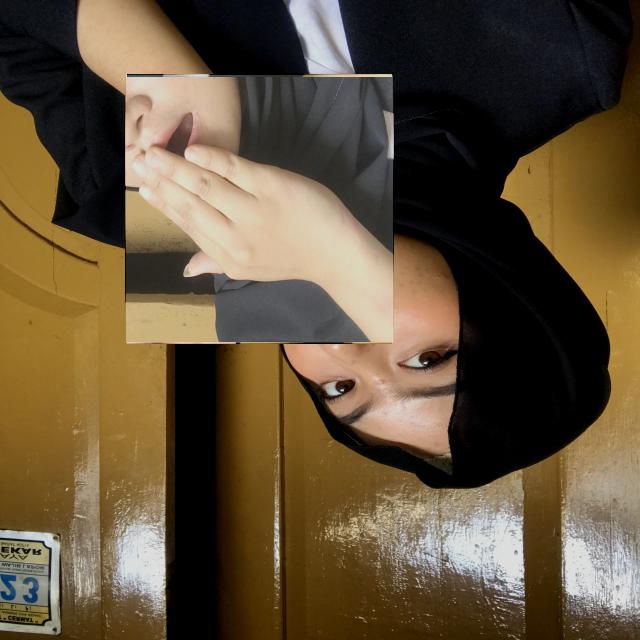ngantuk: (126, 75, 393, 343)
